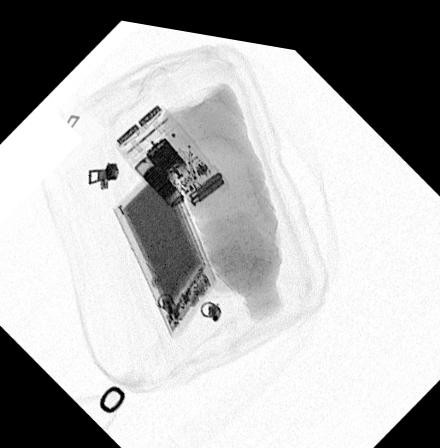Powerbank: (113, 162, 218, 332)
